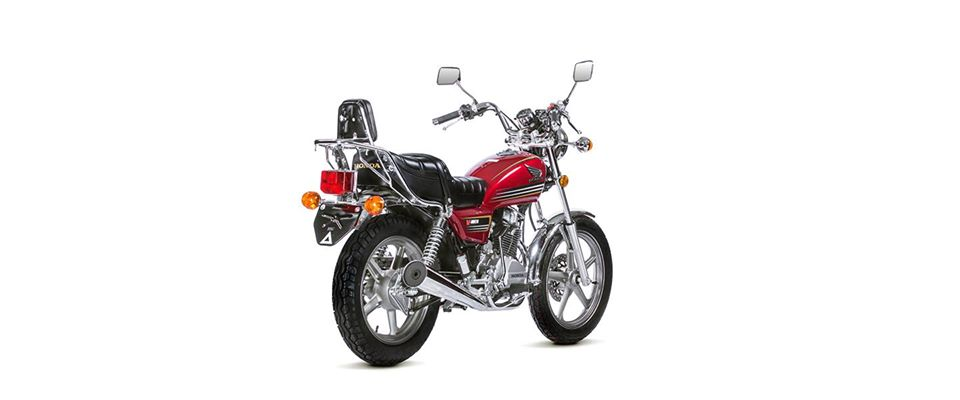moto: (306, 61, 620, 363)
